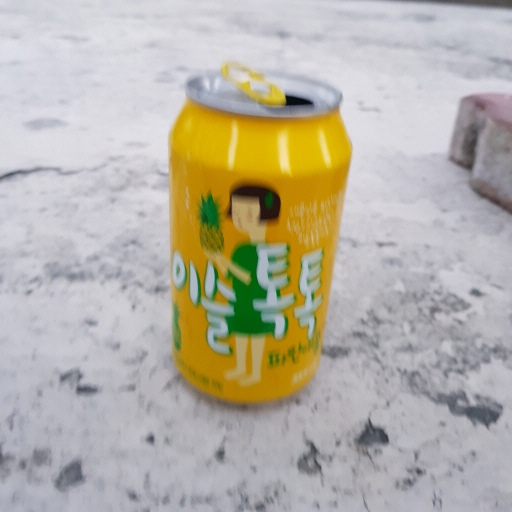Metal_0: (163, 61, 354, 410)
